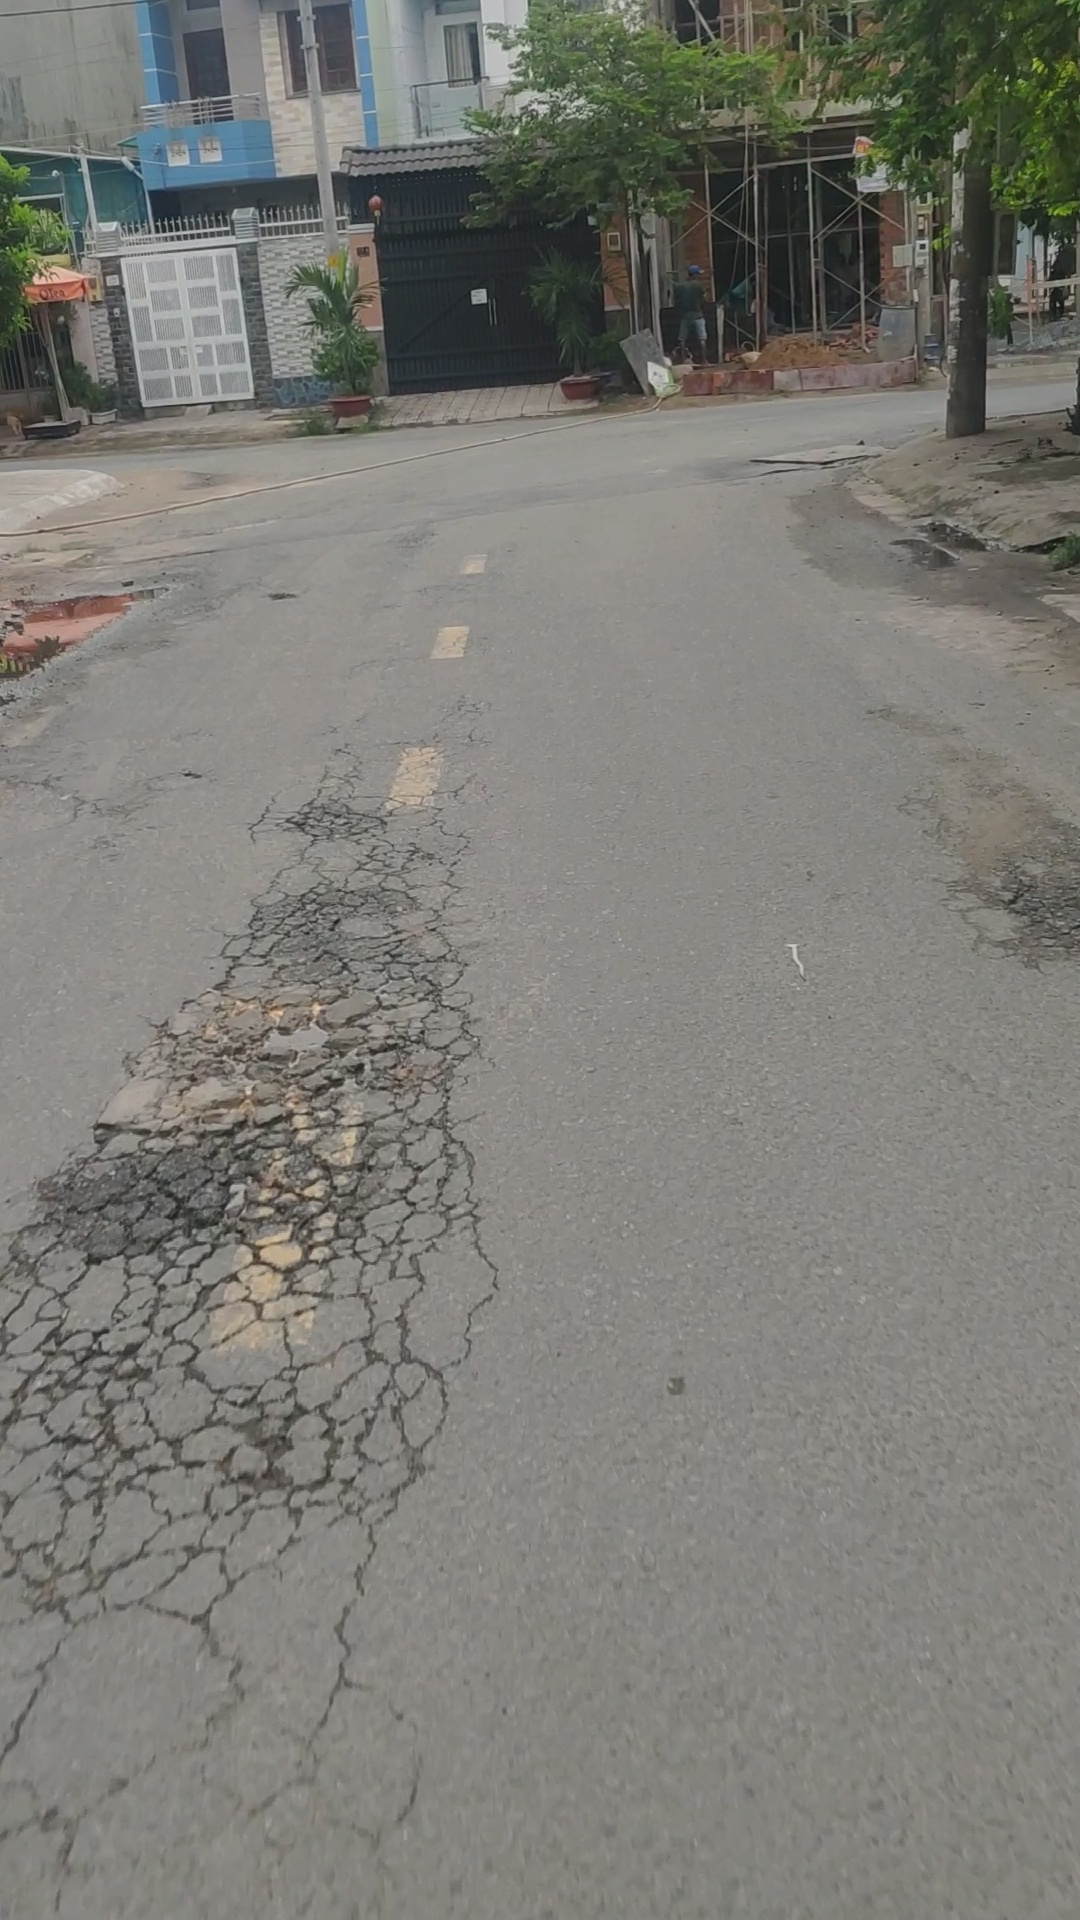hole: (1, 753, 491, 1575), (1, 568, 181, 694), (939, 822, 1080, 969), (884, 535, 963, 574)
